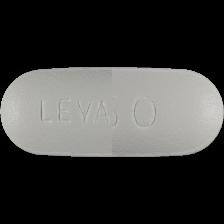55289-394: (0, 0, 224, 224)
